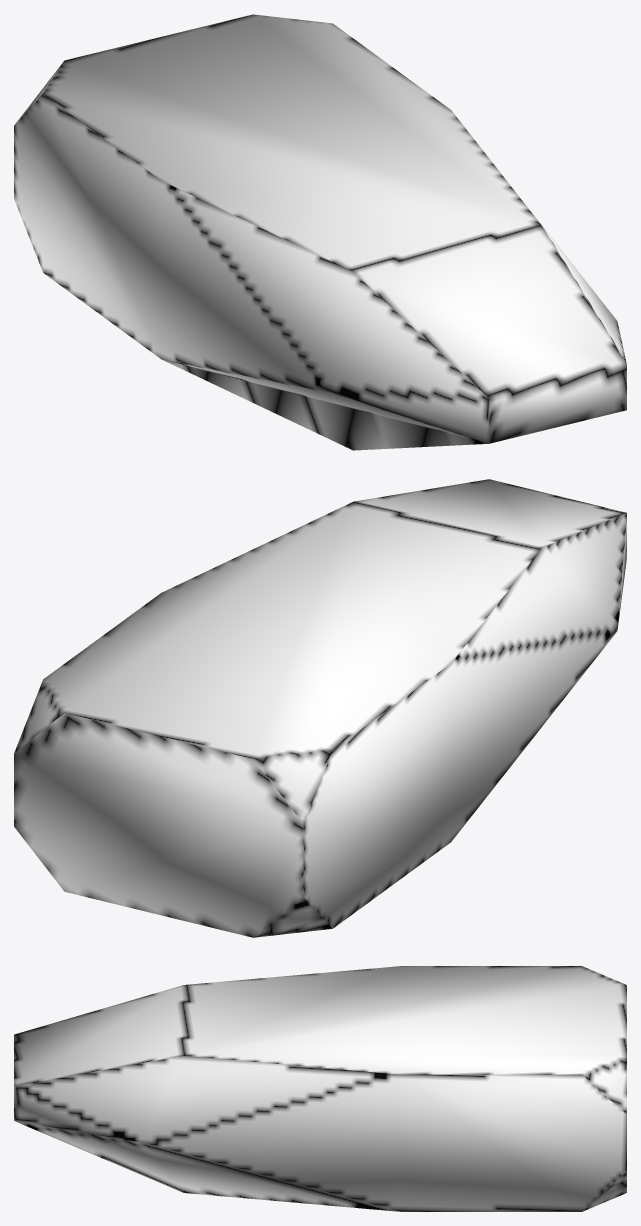
Rendered from tail.obj.
3 renders of one model, top to bottom at view 1: azimuth 30°, elevation 25°; view 2: azimuth 150°, elevation 25°; view 3: azimuth 270°, elevation 25°, orthographic. The views are drawn at different scales.
Visible parts, largest first — view 1: cube1; view 2: cube1; view 3: cube1.
Part boxes in pixels (x1=…): cube1: x1=14, y1=14, x2=626, y2=450; cube1: x1=14, y1=479, x2=626, y2=937; cube1: x1=14, y1=966, x2=626, y2=1211.
Size of the model in its own units: 1.16 by 0.683 by 2.77.
